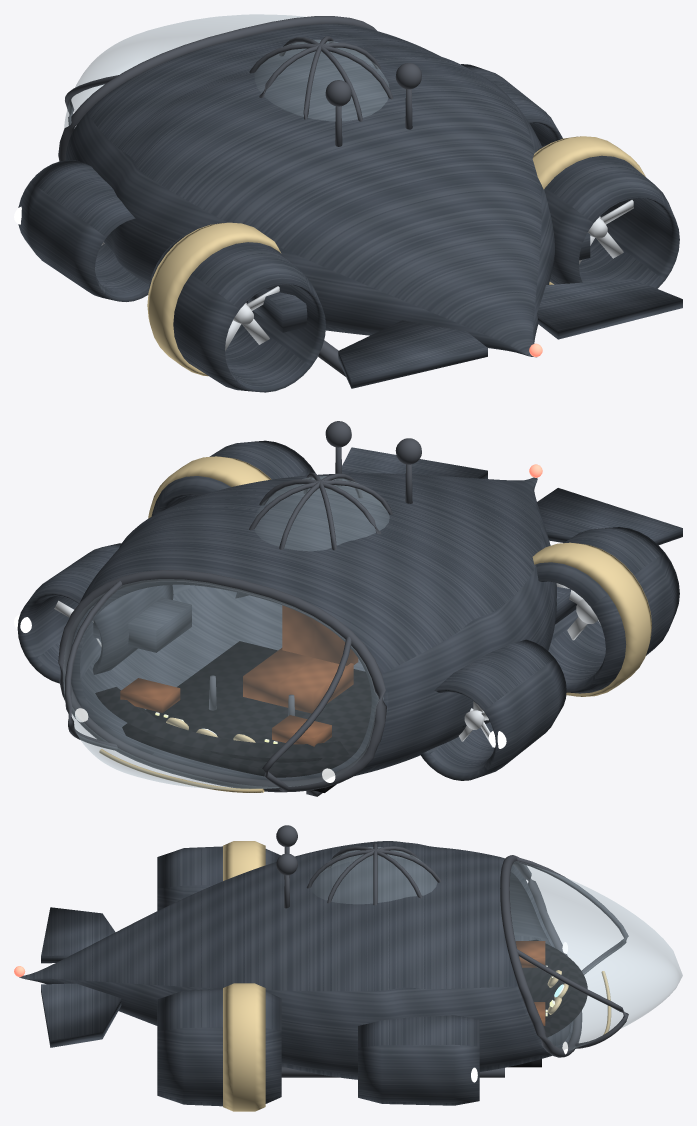
The model's file is bathys.glb.
3 views of the same model, one above another, from view 1: azimuth 30°, elevation 25°; view 2: azimuth 150°, elevation 25°; view 3: azimuth 270°, elevation 25° (orthographic). The views are drawn at different scales.
Parts seen in each view (by area): view 1: Hull, Thruster_Rear_L, Thruster_Rear_R, Thruster_Pod_FL, Tail_Fin_L, Tail_Fin_R, Top_Cupola_Glass, Thruster_GoldRing_L, Viewport_Glass, Viewport_Frame, Top_Cupola_Frame, Thruster_GoldRing_R (+5 smaller); view 2: Hull, Viewport_Glass, Cockpit_Dashboard, Viewport_Frame, Thruster_Rear_L, Thruster_Pod_FL, Thruster_Pod_FR, Cockpit_Leather_Interior, Top_Cupola_Glass, Thruster_GoldRing_L, Tail_Fin_L, Thruster_Rear_R (+8 smaller); view 3: Hull, Viewport_Glass, Thruster_Pod_FR, Thruster_Rear_R, Viewport_Frame, Thruster_GoldRing_R, Top_Cupola_Glass, Tail_Fin_R, Thruster_Rear_L, Cockpit_Dashboard, Tail_Fin_L, Top_Cupola_Frame (+4 smaller).
Boxes of the visible parts, x1,y1,x2,y2 form: Hull: [65, 23, 554, 357]; Thruster_Rear_L: [148, 230, 325, 392]; Thruster_Rear_R: [538, 144, 679, 288]; Thruster_Pod_FL: [18, 160, 149, 301]; Tail_Fin_L: [338, 320, 487, 388]; Tail_Fin_R: [537, 279, 682, 339]; Top_Cupola_Glass: [254, 40, 388, 120]; Thruster_GoldRing_L: [147, 222, 281, 376]; Viewport_Glass: [64, 14, 303, 127]; Viewport_Frame: [58, 16, 376, 161]; Top_Cupola_Frame: [249, 36, 393, 121]; Thruster_GoldRing_R: [532, 136, 645, 284]; Hull: [71, 473, 556, 780]; Viewport_Glass: [63, 579, 383, 789]; Cockpit_Dashboard: [95, 641, 371, 792]; Viewport_Frame: [58, 570, 386, 792]; Thruster_Rear_L: [536, 527, 679, 693]; Thruster_Pod_FL: [420, 639, 566, 780]; Thruster_Pod_FR: [17, 543, 191, 683]; Cockpit_Leather_Interior: [120, 605, 358, 746]; Top_Cupola_Glass: [255, 476, 389, 550]; Thruster_GoldRing_L: [532, 542, 651, 696]; Tail_Fin_L: [536, 488, 682, 545]; Thruster_Rear_R: [151, 440, 315, 598]; Hull: [19, 841, 573, 1079]; Viewport_Glass: [510, 861, 682, 1050]; Thruster_Pod_FR: [358, 1015, 479, 1105]; Thruster_Rear_R: [157, 989, 281, 1106]; Viewport_Frame: [500, 855, 628, 1057]; Thruster_GoldRing_R: [223, 983, 265, 1111]; Top_Cupola_Glass: [311, 847, 436, 903]; Tail_Fin_R: [41, 983, 121, 1047]; Thruster_Rear_L: [157, 846, 280, 910]; Cockpit_Dashboard: [508, 939, 587, 1067]; Tail_Fin_L: [41, 907, 115, 963]; Top_Cupola_Frame: [306, 843, 441, 905].
Bounding box in the file's own units: 3.5 × 1.71 × 5.
12 materials, 3 textured.
